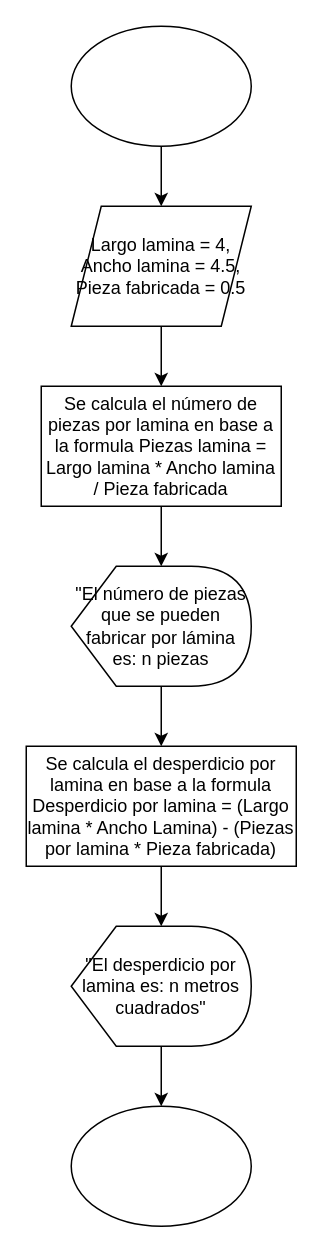
Some shapes in this 323 by 1253 pixel diagram are drawn without their labels. The centre of each missing label's shape, as x and y in pixels:
Fin: point (160, 1165)
Inicio: point (160, 85)
